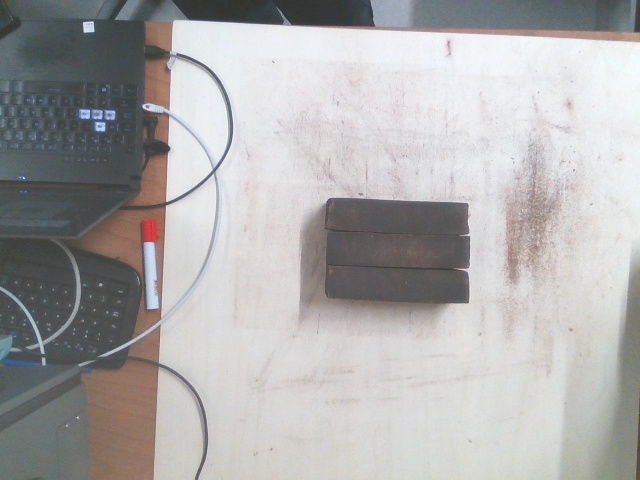brick-side: (330, 199, 466, 235), (331, 235, 467, 271), (330, 268, 466, 304)
